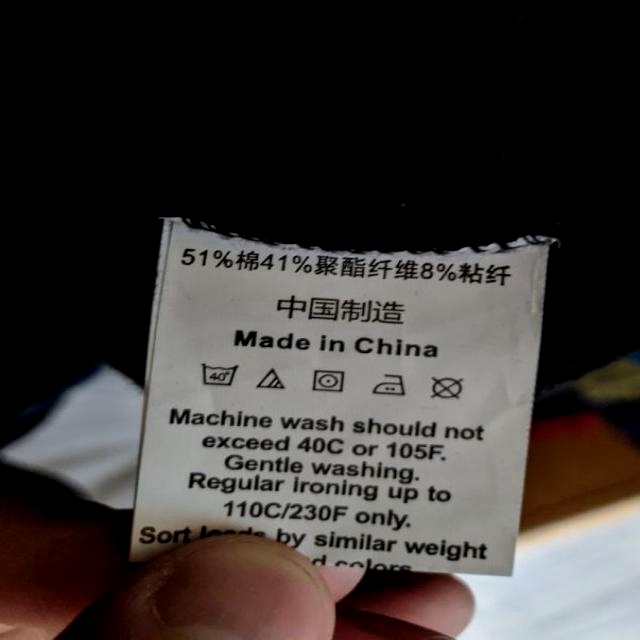40C: (196, 360, 244, 389)
DN_dry_clean: (427, 373, 469, 402)
iron_medium: (370, 371, 409, 397)
non_chlorine_bleach: (257, 367, 288, 393)
tumble_dry_low: (311, 365, 352, 393)
